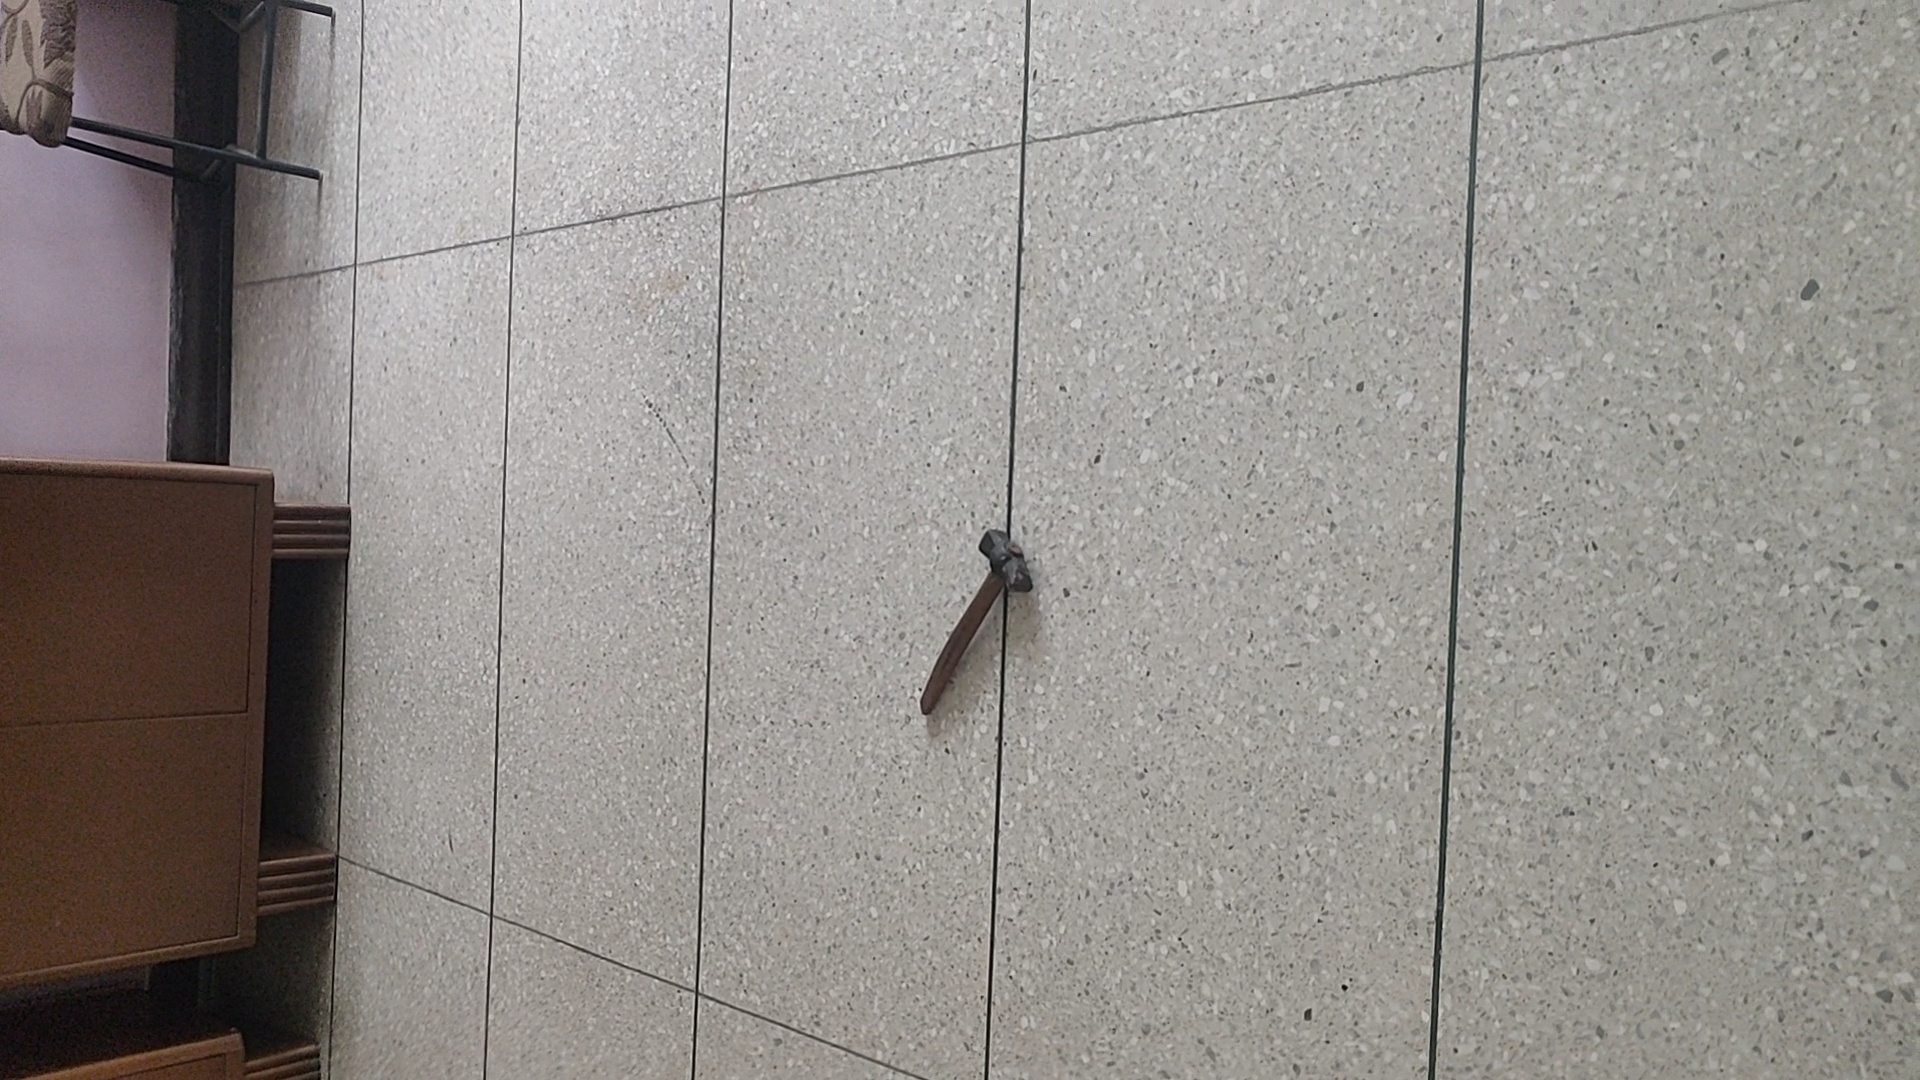hammer: (913, 525, 1033, 721)
